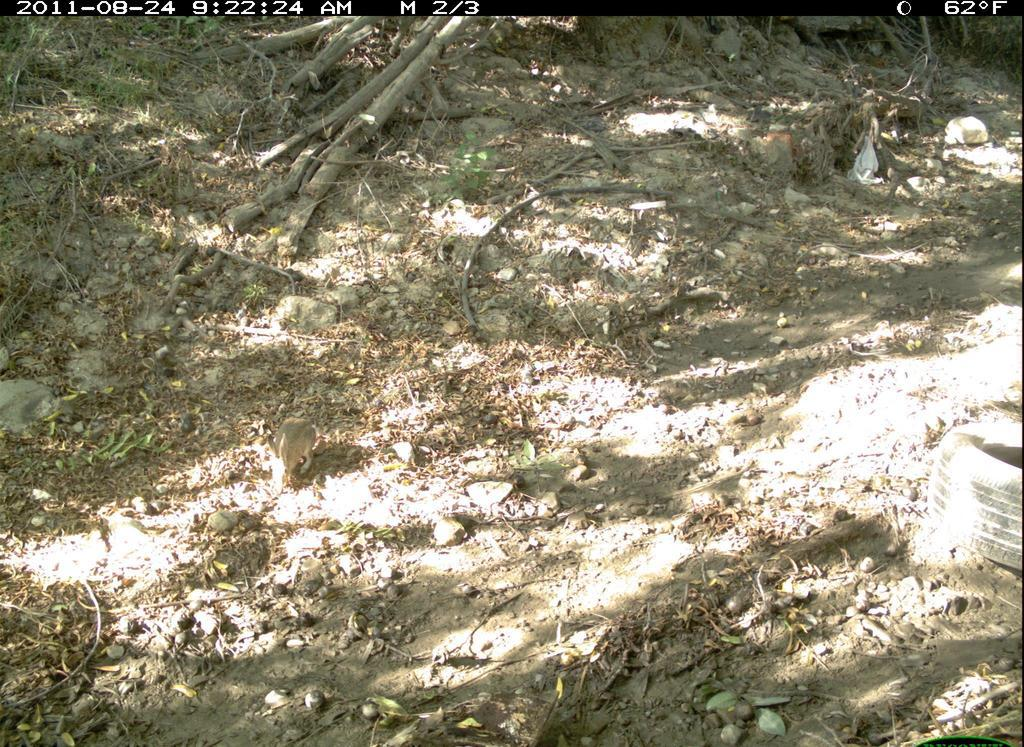rabbit: (244, 392, 337, 495)
